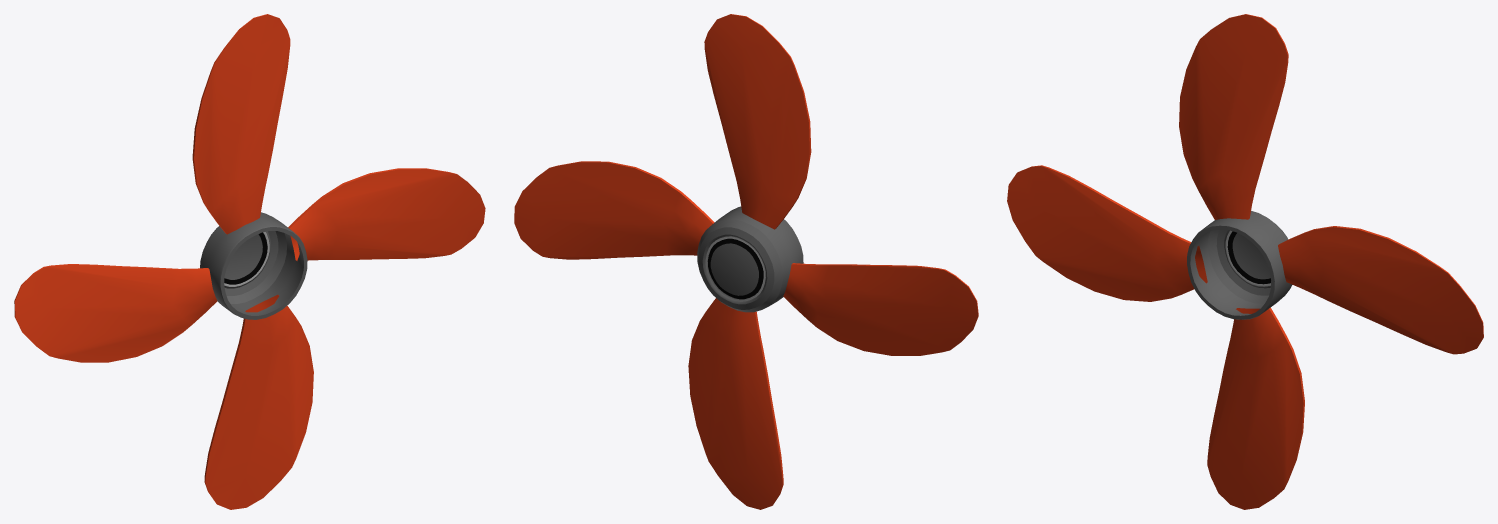
Rendered from prof_back_4.fbx.
3 views of the same model, side by side, from view 1: azimuth 30°, elevation 25°; view 2: azimuth 150°, elevation 25°; view 3: azimuth 330°, elevation 25° (orthographic). The views are drawn at different scales.
Parts seen in each view (by area): view 1: Propeller; view 2: Propeller; view 3: Propeller.
Part boxes in pixels (x1,y1,x2,y2): Propeller: (14,14,485,509); Propeller: (514,14,978,509); Propeller: (1007,14,1483,509).
Bounding box in the file's own units: 393 × 393 × 38.4.
